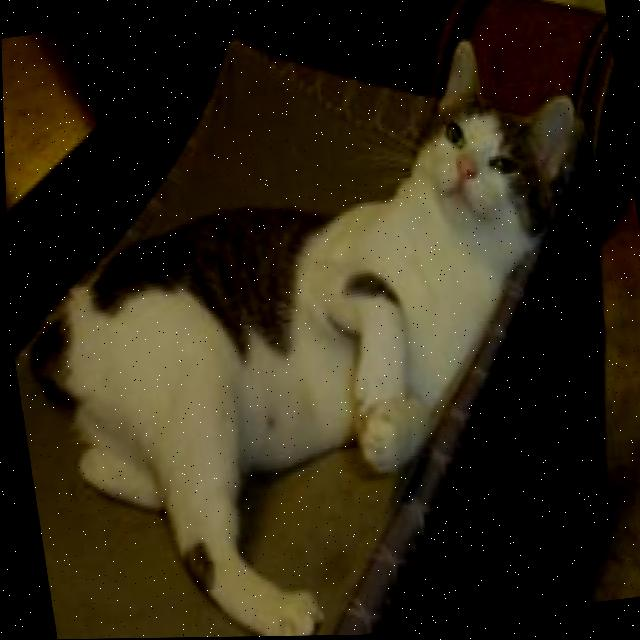American Bobtail: (1, 18, 640, 640)
